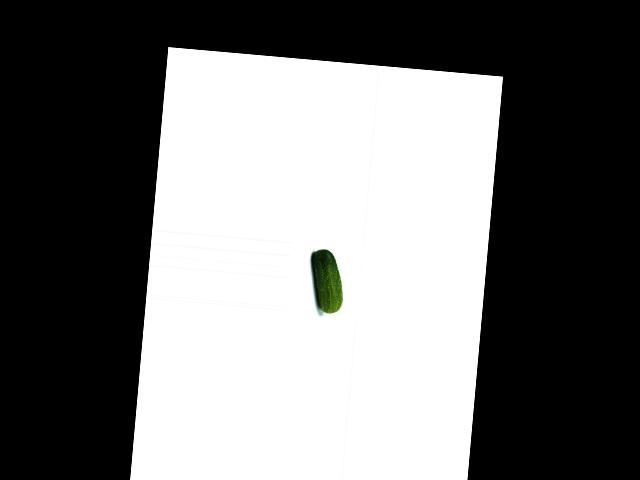cucumber: (307, 248, 346, 314)
